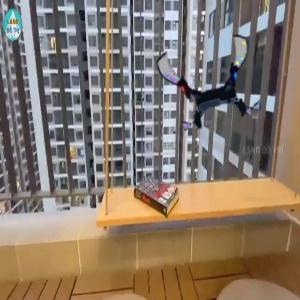drone: (161, 35, 259, 133)
